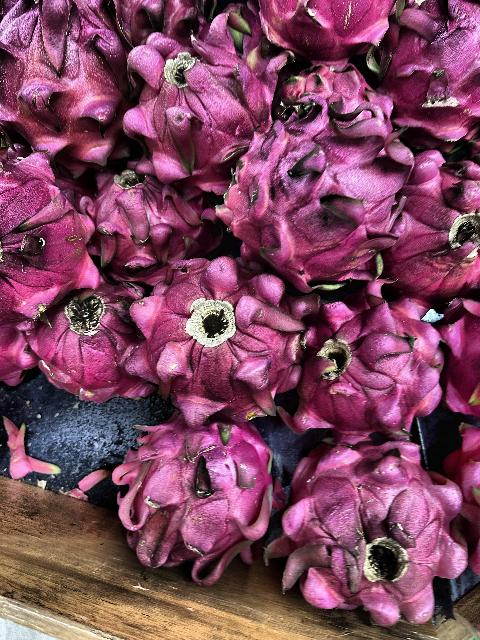buah-naga-matang: (229, 102, 408, 292), (289, 442, 468, 630), (119, 399, 279, 585), (146, 266, 308, 428), (4, 0, 132, 170), (122, 40, 274, 178), (304, 300, 448, 440), (0, 146, 98, 318), (27, 296, 148, 418), (83, 172, 209, 282), (396, 136, 480, 300), (394, 0, 480, 146), (256, 1, 400, 64)
